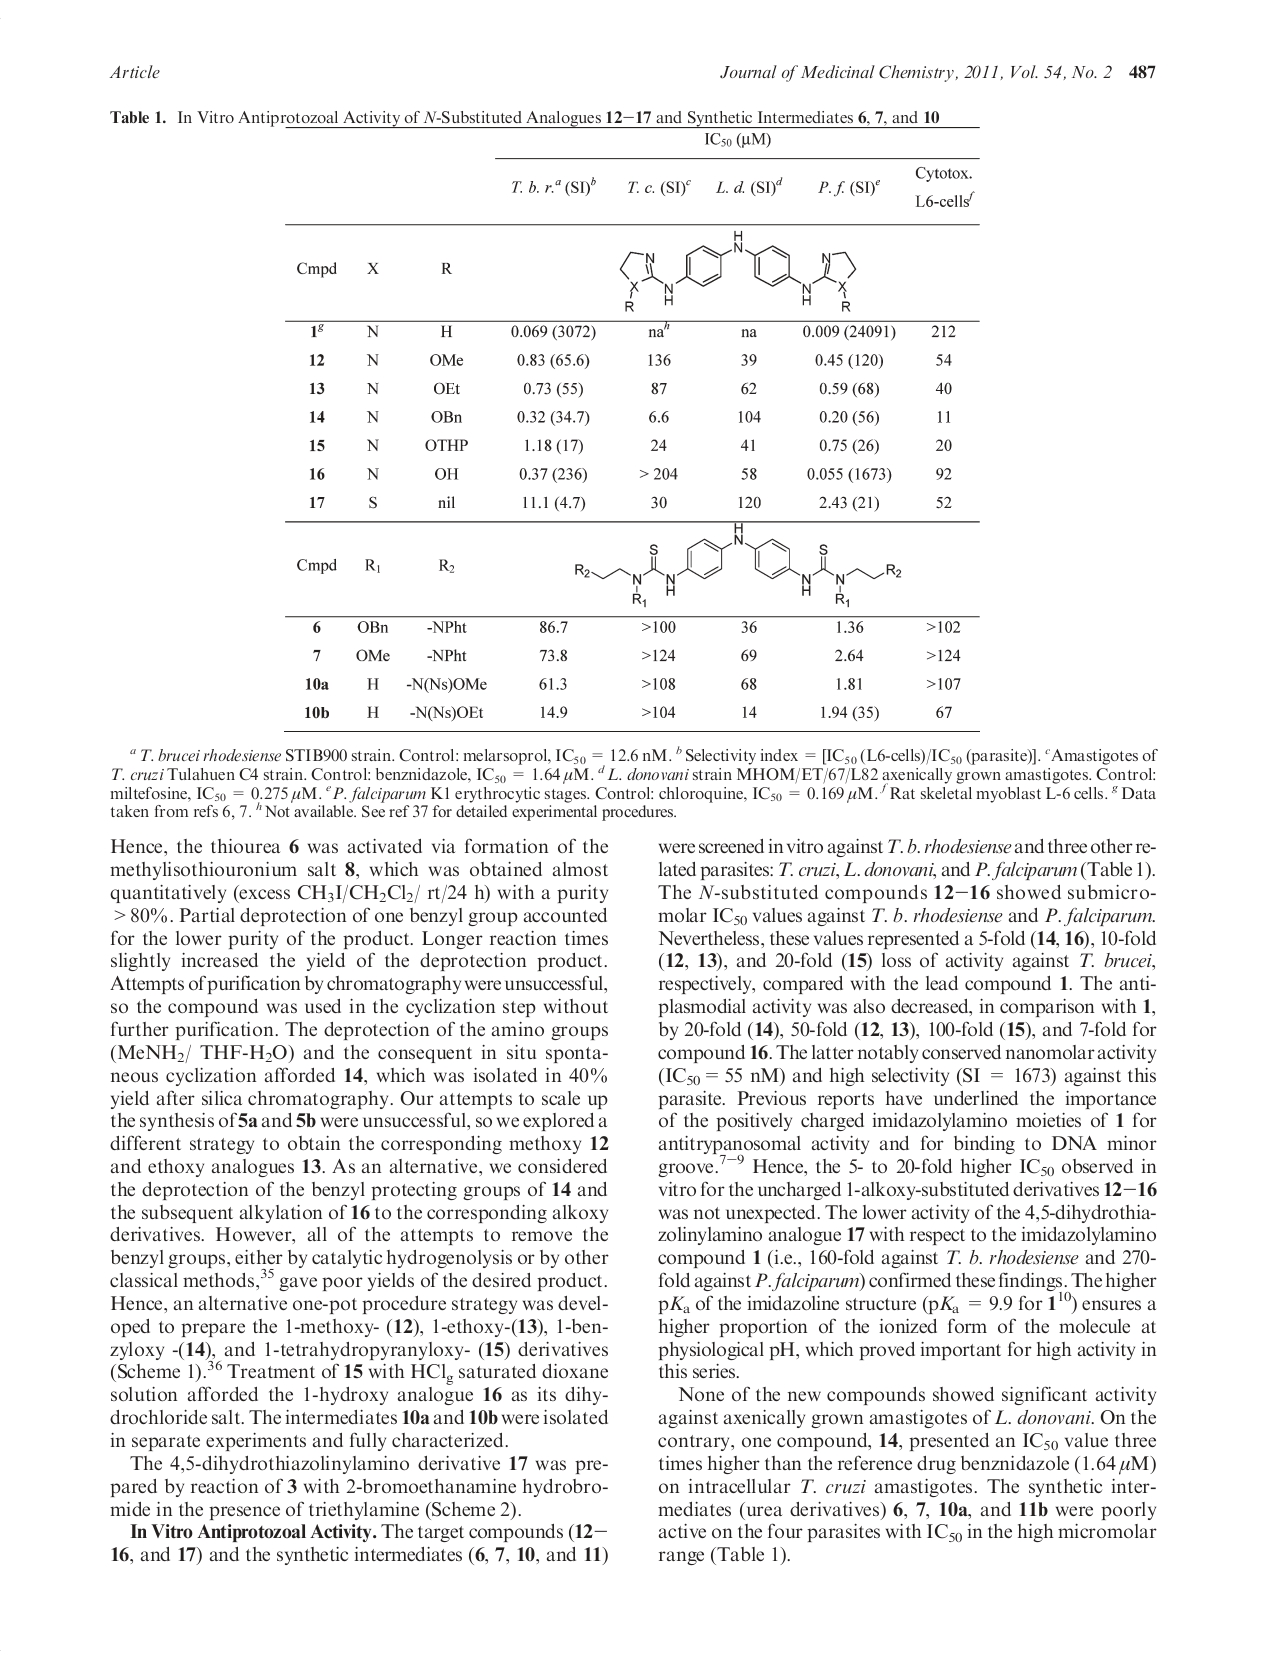exist_molecular: (573, 523, 906, 610), (617, 229, 858, 317)
